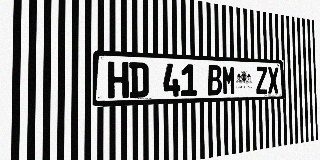1: (181, 64, 197, 96)
4: (163, 63, 180, 97)
B: (207, 65, 222, 95)
D: (129, 62, 149, 98)
H: (108, 61, 129, 99)
M: (222, 65, 236, 95)
X: (268, 67, 279, 94)
Z: (256, 66, 268, 94)
